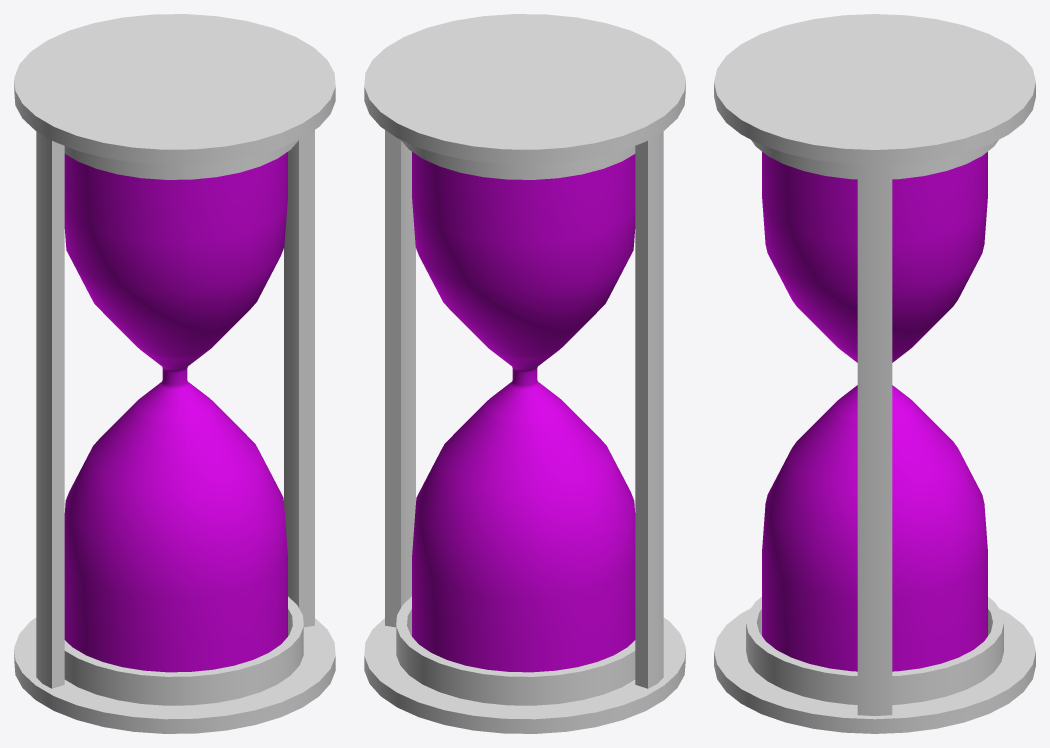
The model's file is HourGlass.fbx.
3 views of the same model, side by side, from view 1: azimuth 30°, elevation 25°; view 2: azimuth 150°, elevation 25°; view 3: azimuth 270°, elevation 25° (orthographic).
Visible parts, largest first — view 1: Circle.013; view 2: Circle.013; view 3: Circle.013.
Boxes of the visible parts, x1,y1,x2,y2 form: Circle.013: (14,14,335,733); Circle.013: (364,14,685,733); Circle.013: (714,14,1035,733).
Bounding box in the file's own units: 28.7 × 57.44 × 28.7.
